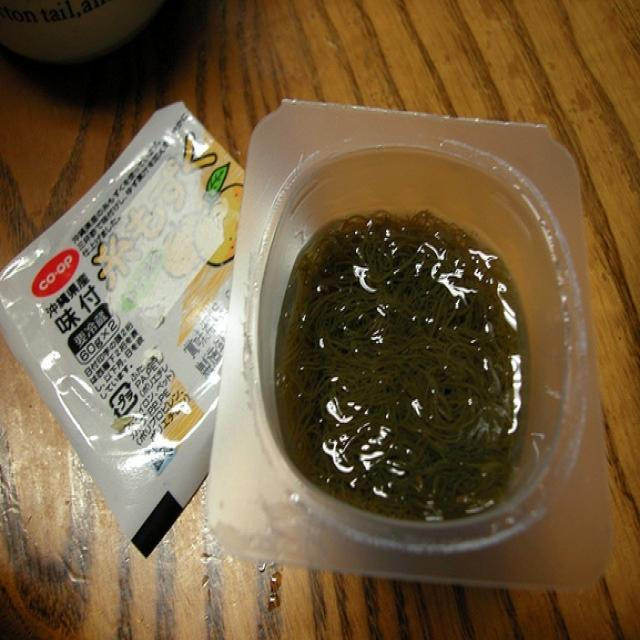蔬菜料理: (237, 80, 604, 572)
